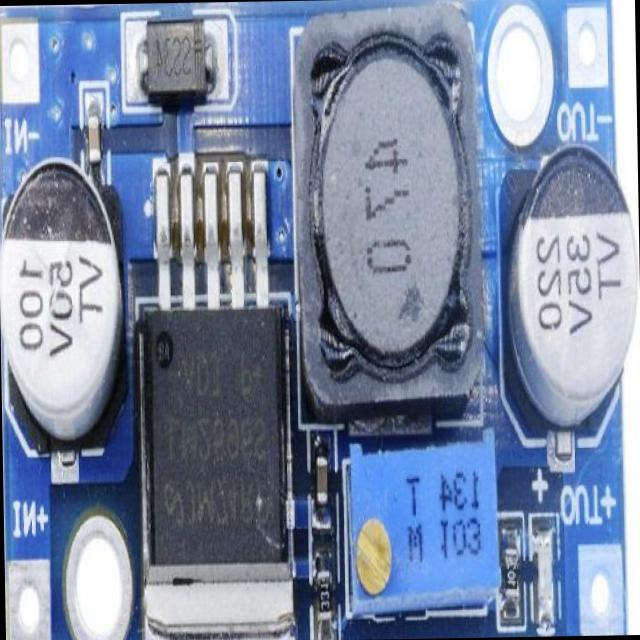IC: (143, 204, 290, 616)
LED: (530, 525, 560, 616)
capacitor: (506, 151, 640, 432), (1, 160, 126, 456), (315, 455, 330, 521), (86, 108, 100, 160)
diode: (128, 13, 215, 101)
potentiometer: (340, 427, 498, 598)
resistor: (501, 528, 520, 618), (316, 563, 331, 626)
